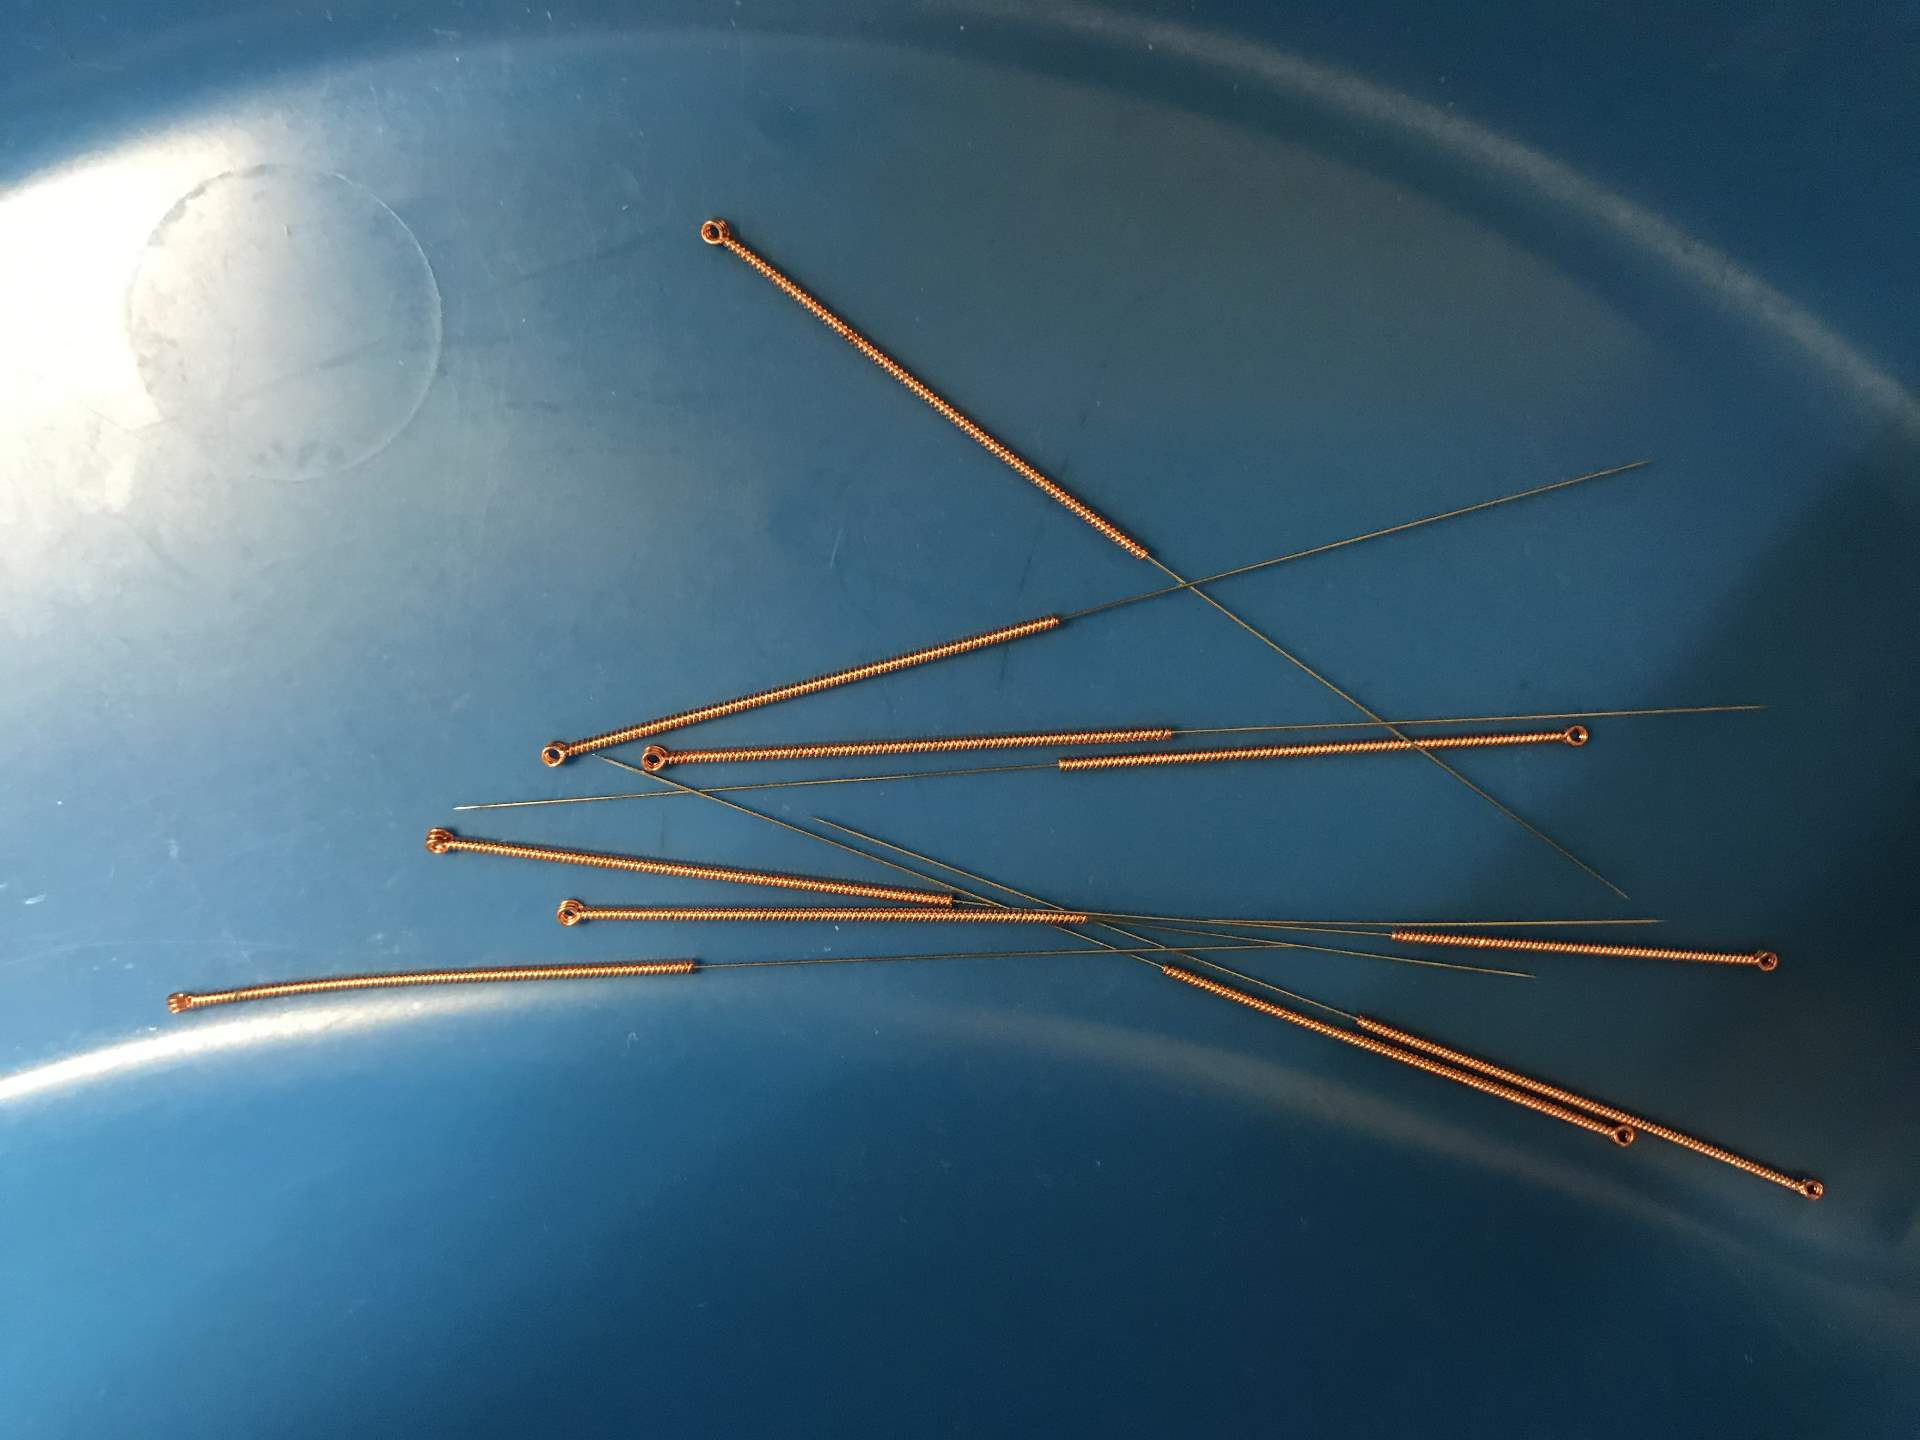needle: (682, 203, 745, 260), (151, 973, 209, 1030), (541, 886, 602, 939), (416, 815, 469, 871), (531, 729, 584, 781), (632, 737, 683, 785), (1545, 717, 1601, 761), (1785, 1165, 1831, 1212), (1742, 939, 1787, 985), (1596, 1118, 1640, 1156)
